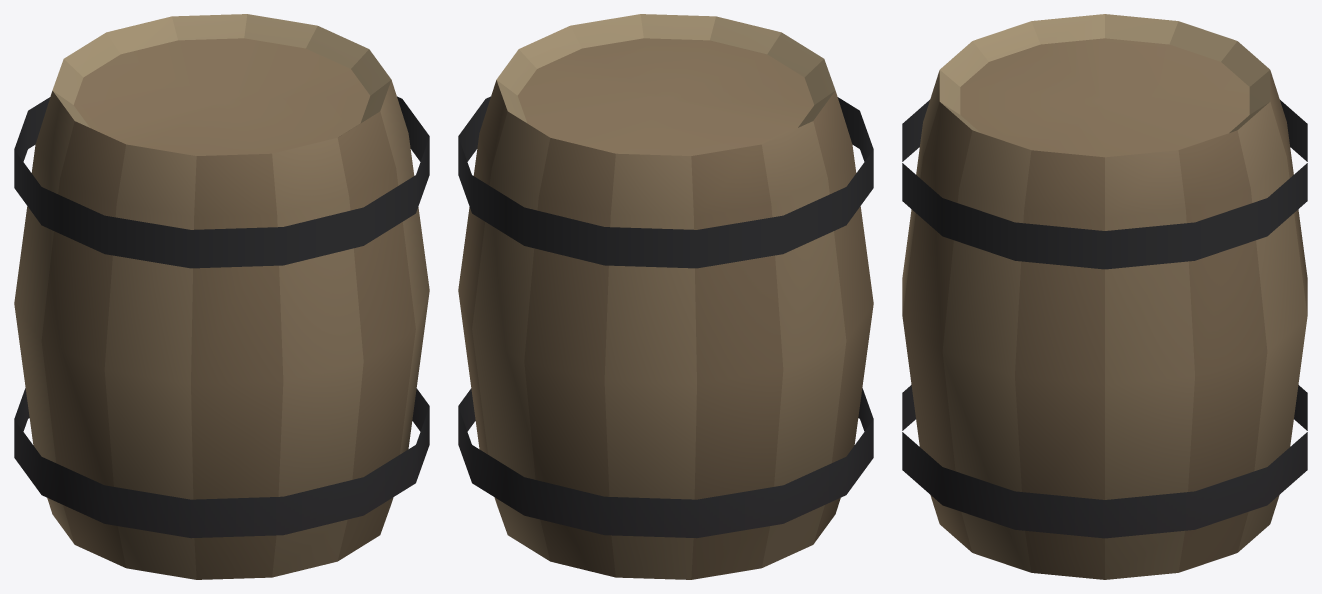
Rendered from tonneau.glb.
The picture shows the model from 3 angles, left to right: view 1: azimuth 30°, elevation 25°; view 2: azimuth 150°, elevation 25°; view 3: azimuth 270°, elevation 25°; orthographic projection.
Visible parts, largest first — view 1: tonneau; view 2: tonneau; view 3: tonneau.
Boxes of the visible parts, x1,y1,x2,y2 form: tonneau: (14, 14, 429, 579); tonneau: (458, 14, 873, 579); tonneau: (902, 14, 1307, 579).
Bounding box in the file's own units: 0.98 × 1.1 × 0.9554.
